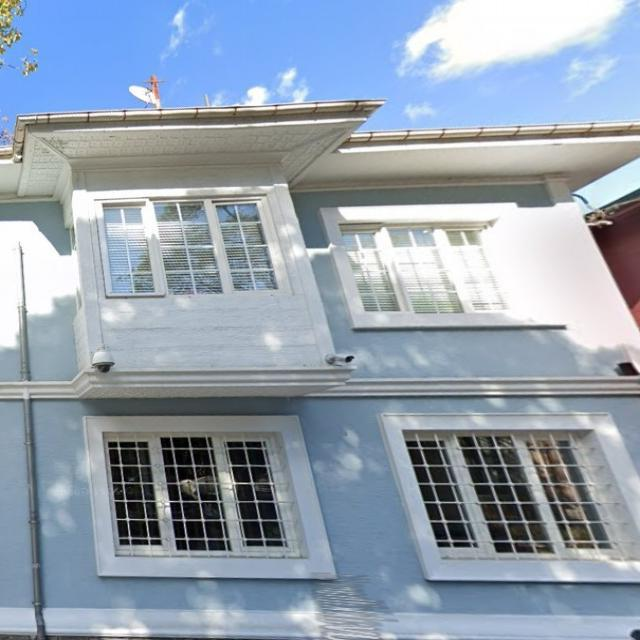Building: (0, 100, 640, 640)
